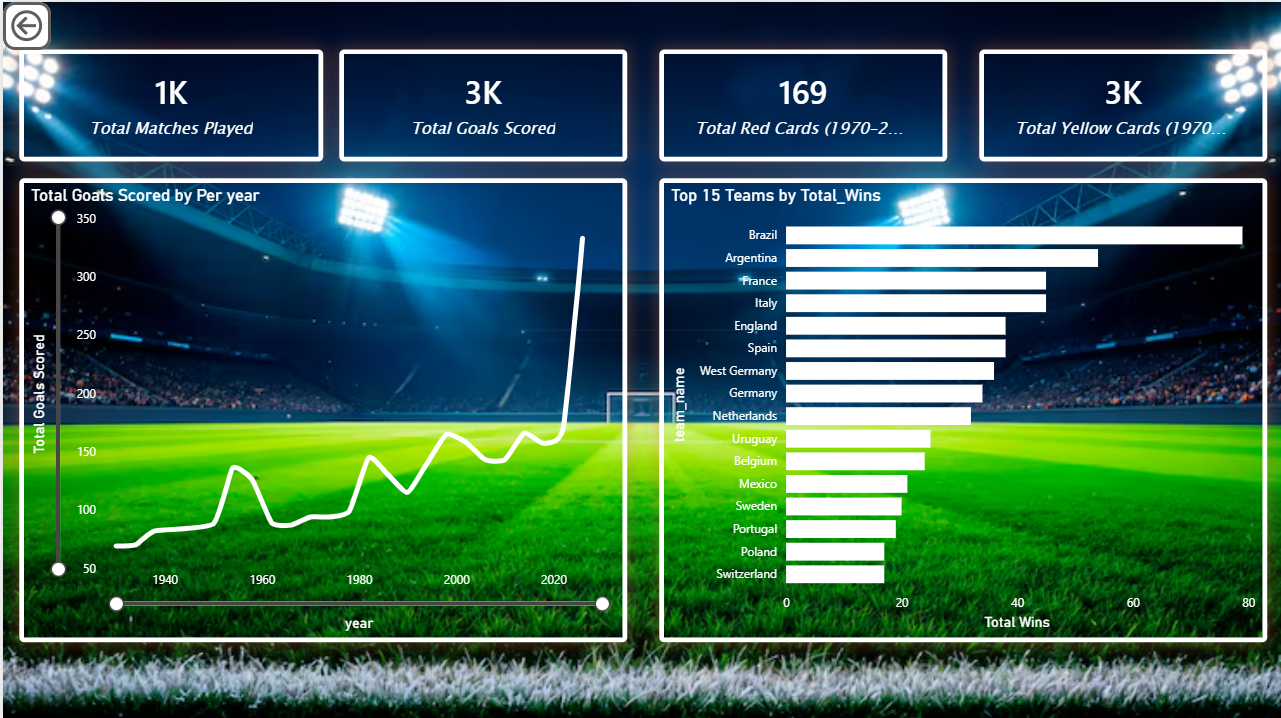

This screenshot's page, from the dashboard's own definition file:
{"tool":"powerbi","page":{"name":"Tournament Overview","canvas":[1280,720],"ordinal":1},"visuals":[{"type":"cardVisual","fields":{"Data":["Measure.Total Matches Played"]},"box":[16,48,304,112],"z":0},{"type":"cardVisual","fields":{"Data":["Measure.Total Red Cards (1970–2026)"]},"box":[656,48,288,112],"z":1000},{"type":"cardVisual","fields":{"Data":["Measure.Total Goals Scored"]},"box":[336,48,288,112],"z":2000},{"type":"cardVisual","fields":{"Data":["Measure.Total Yellow Cards (1970–2026)"]},"box":[976,48,288,112],"z":3000},{"type":"lineChart","title":"Total Goals Scored by Per year","fields":{"Y":["Measure.Total Goals Scored"],"Category":["dim_tournament.year"]},"box":[16,176,608,464],"z":4000},{"type":"clusteredBarChart","title":"Top 15 Teams by Total_Wins","fields":{"Category":["dim_team.team_name"],"Y":["Measure.Total Wins"]},"box":[656,176,608,464],"z":5000},{"type":"actionButton","box":[0,0,48,48],"z":5001}]}

Visuals, with their boxes in screenshot pixels (x1, y1, x2, y2), scaled from the page's 1280x720 canvas onto the 1281x718 screenshot:
cardVisual - Measure.Total Matches Played: <box>16,48,320,160</box>
cardVisual - Measure.Total Red Cards (1970–2026): <box>657,48,945,160</box>
cardVisual - Measure.Total Goals Scored: <box>336,48,624,160</box>
cardVisual - Measure.Total Yellow Cards (1970–2026): <box>977,48,1265,160</box>
"Total Goals Scored by Per year" lineChart: <box>16,176,624,638</box>
"Top 15 Teams by Total_Wins" clusteredBarChart: <box>657,176,1265,638</box>
actionButton: <box>0,0,48,48</box>
